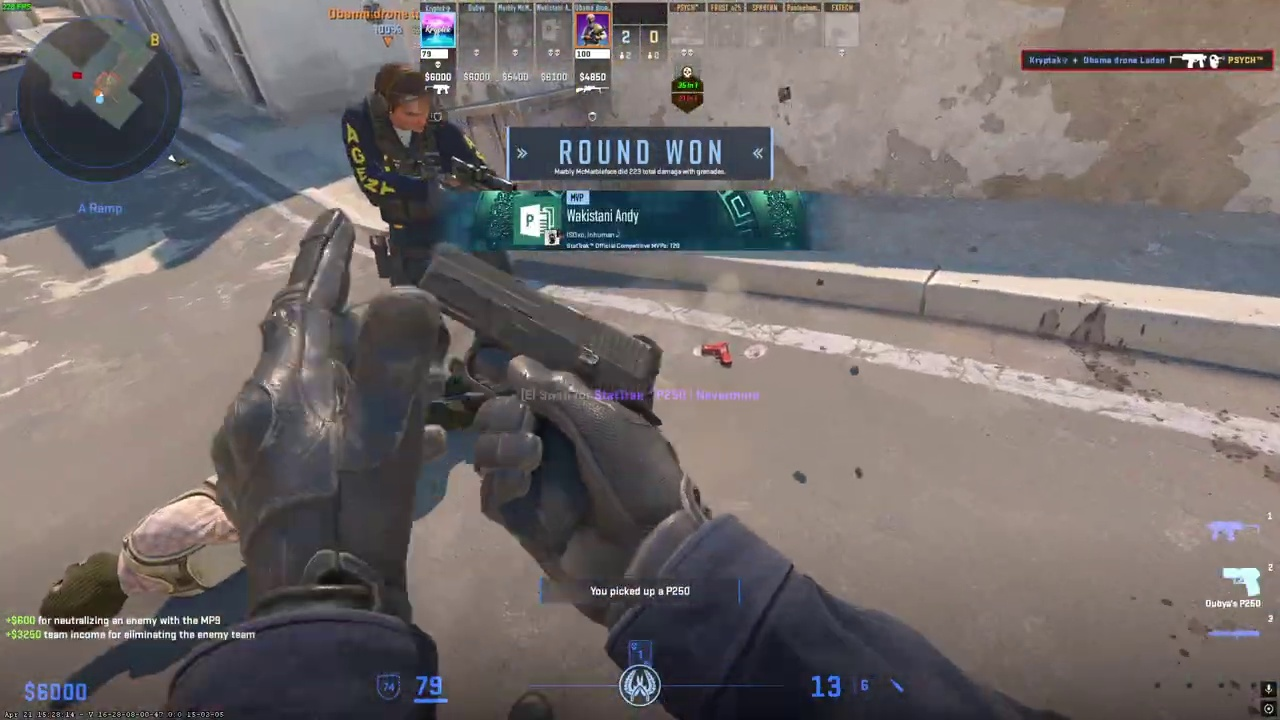CT: (342, 62, 511, 286)
